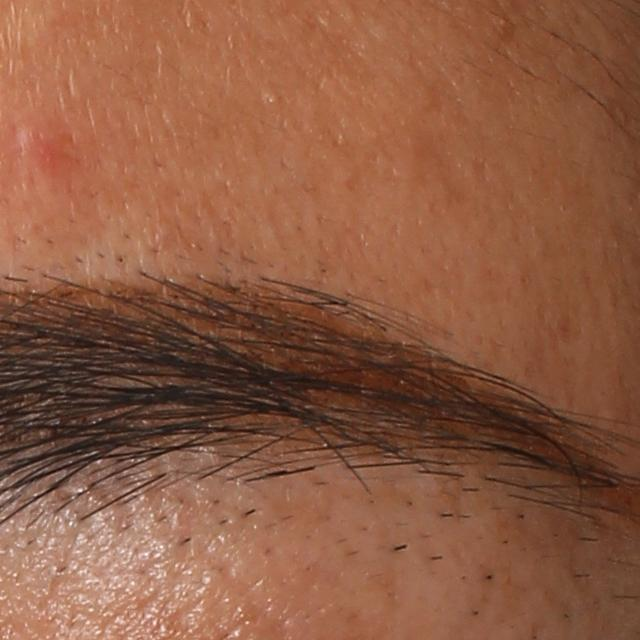comedo: (264, 91, 281, 108)
papule: (12, 120, 65, 175)
